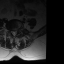CCS_normal: (13, 28, 15, 37)
LFS_severe_stenosis: (17, 27, 19, 34)
LLS_normal: (15, 28, 17, 36)
RFS_severe_stenosis: (9, 27, 11, 33)
RLS_normal: (11, 28, 13, 36)
